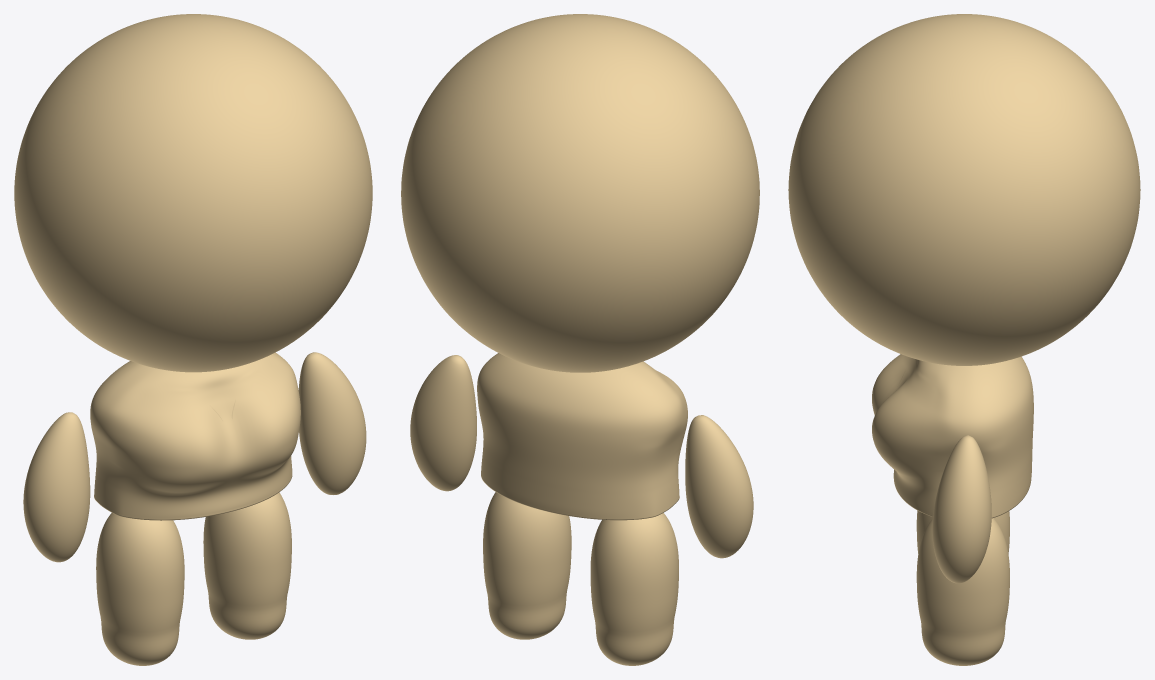
The model's file is Feminine-Feminine-pants-clothed-base263-8fa7df47.glb.
3 views of the same model, side by side, from view 1: azimuth 30°, elevation 25°; view 2: azimuth 150°, elevation 25°; view 3: azimuth 270°, elevation 25° (orthographic).
Parts seen in each view (by area): view 1: Skin / soft oval head, Skin / rounded torso, Skin / pants fitted leg -1, Skin / pants fitted leg 1, Skin / swept arm -1, Skin / swept arm 1; view 2: Skin / soft oval head, Skin / rounded torso, Skin / pants fitted leg -1, Skin / pants fitted leg 1, Skin / swept arm -1, Skin / swept arm 1; view 3: Skin / soft oval head, Skin / rounded torso, Skin / pants fitted leg 1, Skin / swept arm 1, Skin / pants fitted leg -1.
Boxes of the visible parts, <box> form: Skin / soft oval head: <box>14,14,372,372</box>; Skin / rounded torso: <box>90,352,300,520</box>; Skin / pants fitted leg -1: <box>96,513,184,665</box>; Skin / pants fitted leg 1: <box>203,492,291,639</box>; Skin / swept arm -1: <box>23,412,90,562</box>; Skin / swept arm 1: <box>298,352,366,494</box>; Skin / soft oval head: <box>401,14,759,372</box>; Skin / rounded torso: <box>477,353,687,520</box>; Skin / pants fitted leg -1: <box>590,513,678,665</box>; Skin / pants fitted leg 1: <box>483,492,571,639</box>; Skin / swept arm -1: <box>685,415,753,558</box>; Skin / swept arm 1: <box>410,355,476,491</box>; Skin / soft oval head: <box>788,14,1140,365</box>; Skin / rounded torso: <box>872,354,1033,518</box>; Skin / pants fitted leg 1: <box>916,518,1009,665</box>; Skin / swept arm 1: <box>932,435,991,583</box>; Skin / pants fitted leg -1: <box>916,510,1009,553</box>.
Size of the model in its own units: 1.04 by 1.82 by 0.96.
